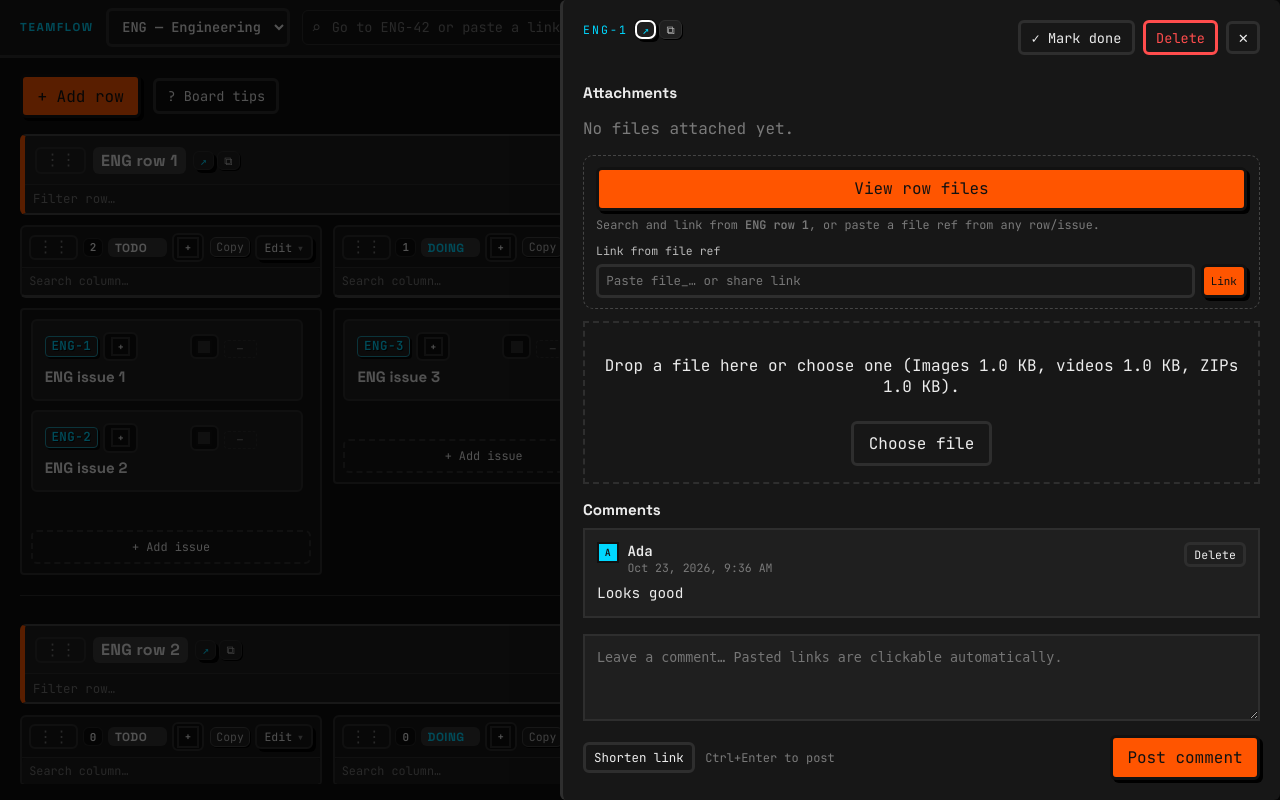
Test: ConfirmDialog › guards comment deletion in the issue drawer
(page scrolled)
Step 1. Click the button with aria-label "Delete comment" → (1215,555), box [1184,542,1246,568]
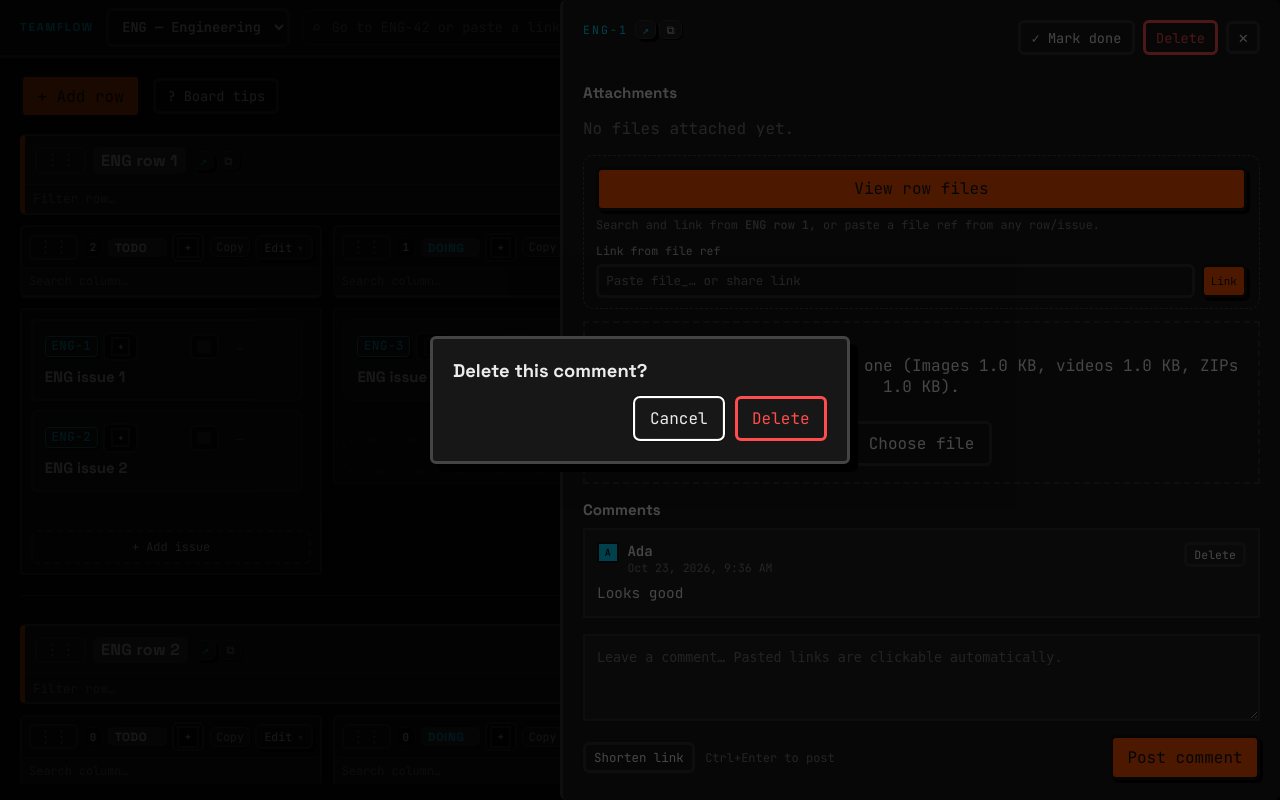
Step 2. Click the button "Cancel" → (679,418), box [633,396,725,441]
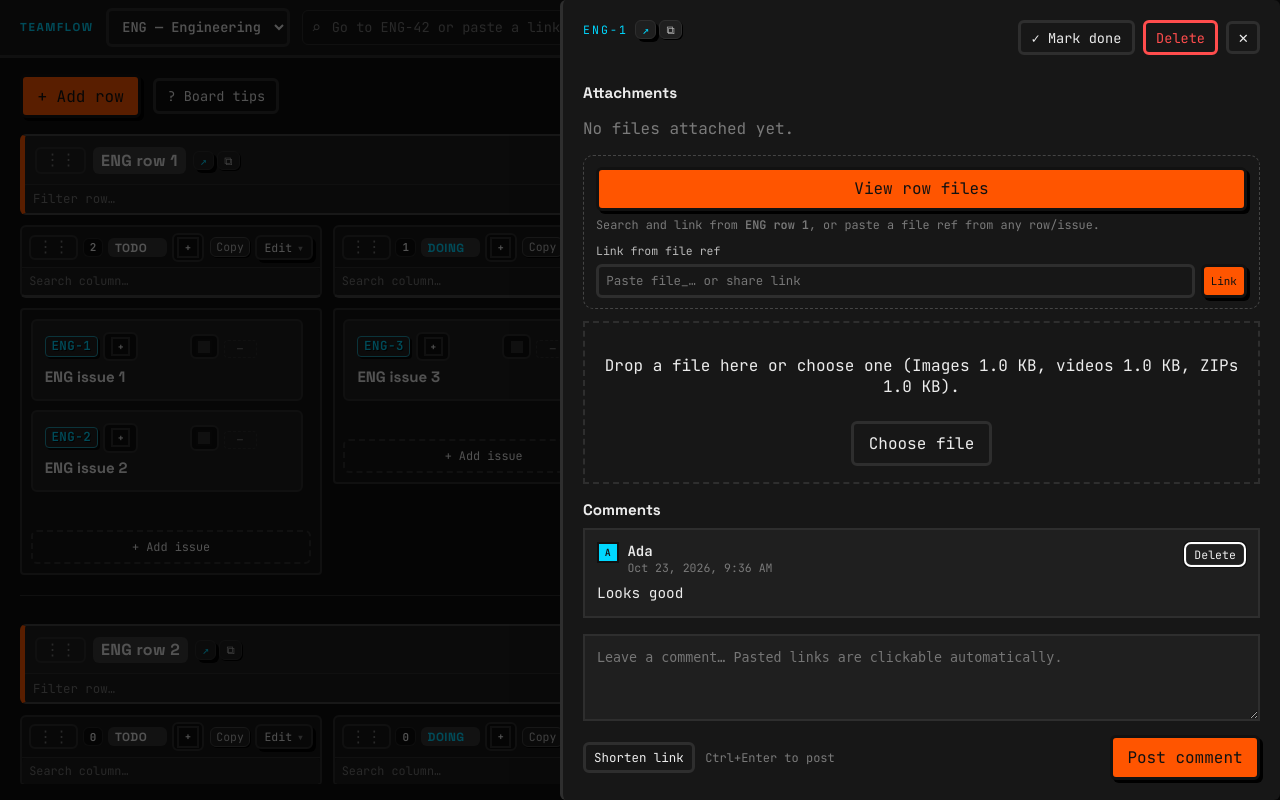
Step 3. Click the button with aria-label "Delete comment" → (1215,555), box [1184,542,1246,568]
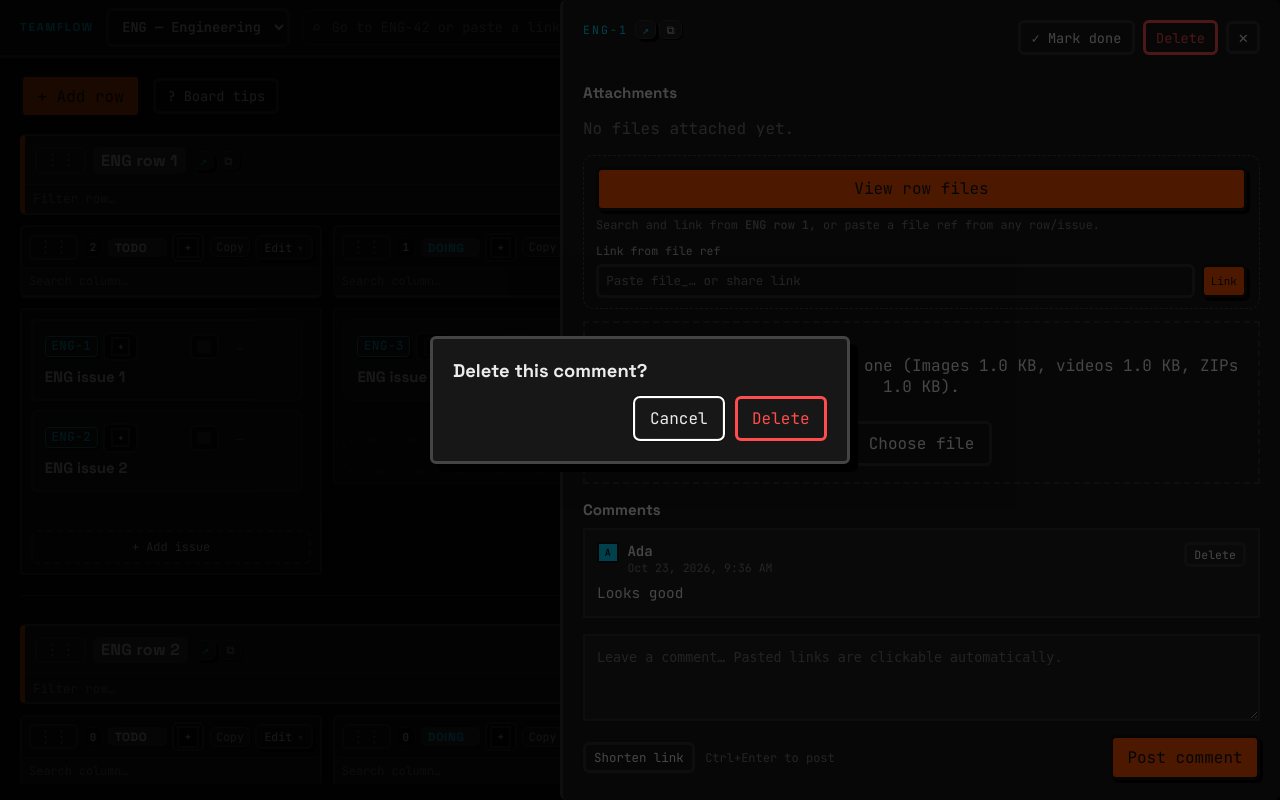
Step 4. Click the button "Delete" → (781,418), box [735,396,827,441]
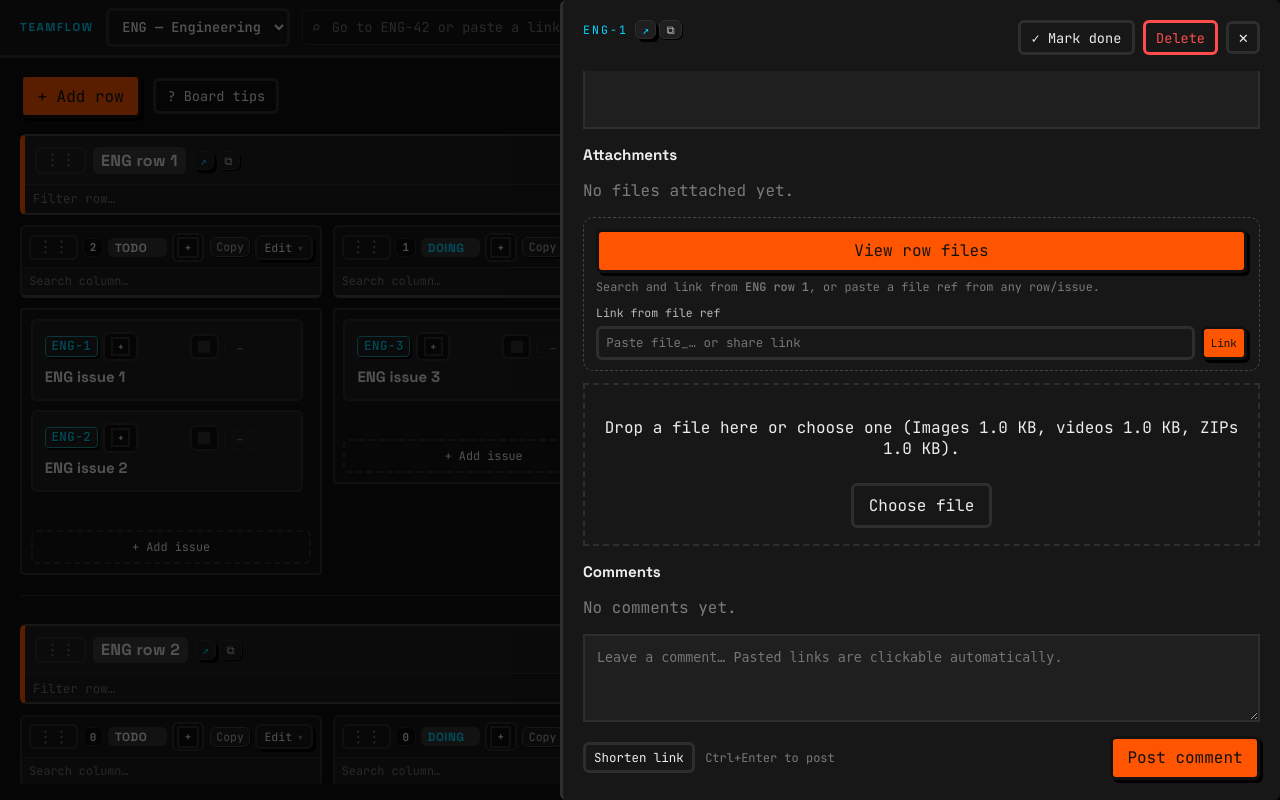
Expected: the text "Looks good" is gone
